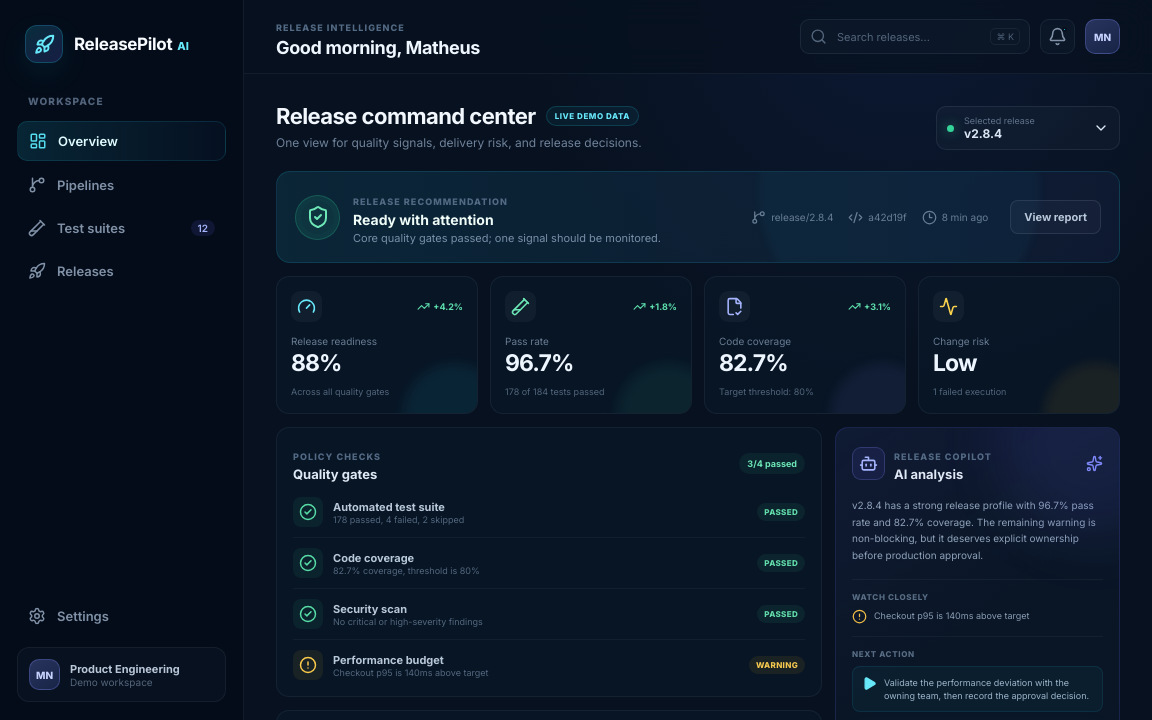
Test: ReleasePilot dashboard › opens and closes the release report
This screenshot has width=1152, height=720.
Click the button "View report": x=1056, y=217 [1010,200,1101,234]
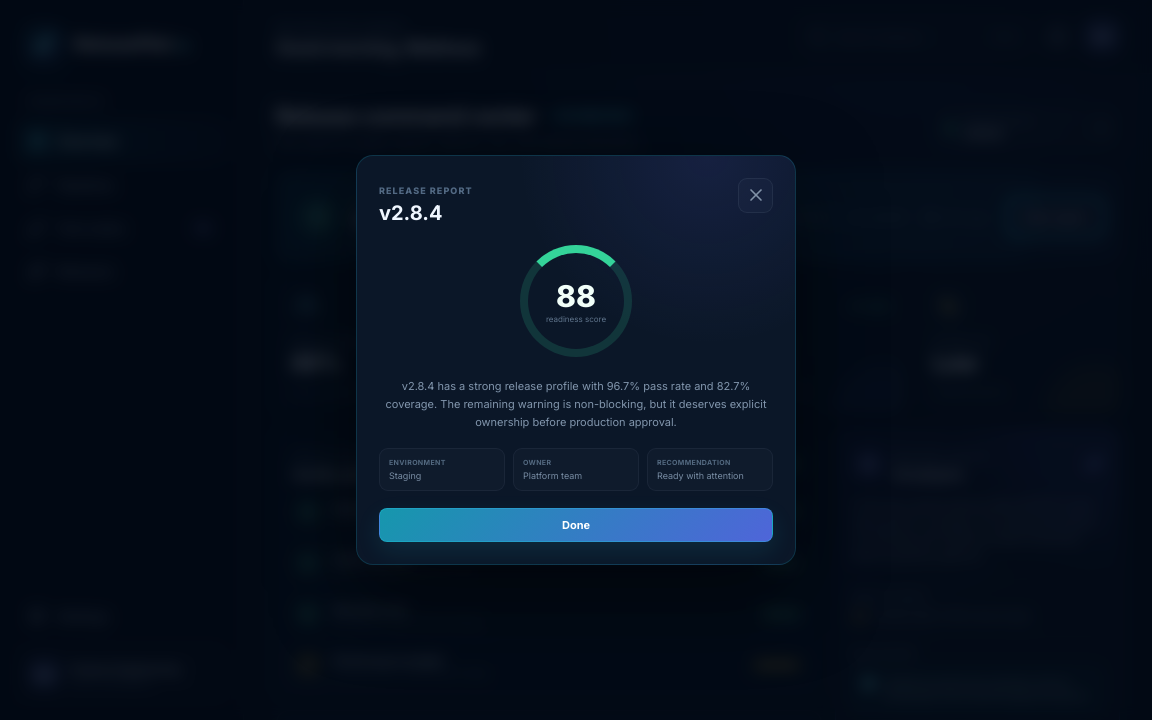
Now the dialog "v2.8.4" is shown, box [356,155,796,565]
Click the button named "Close report": x=756, y=195 [738,178,773,213]
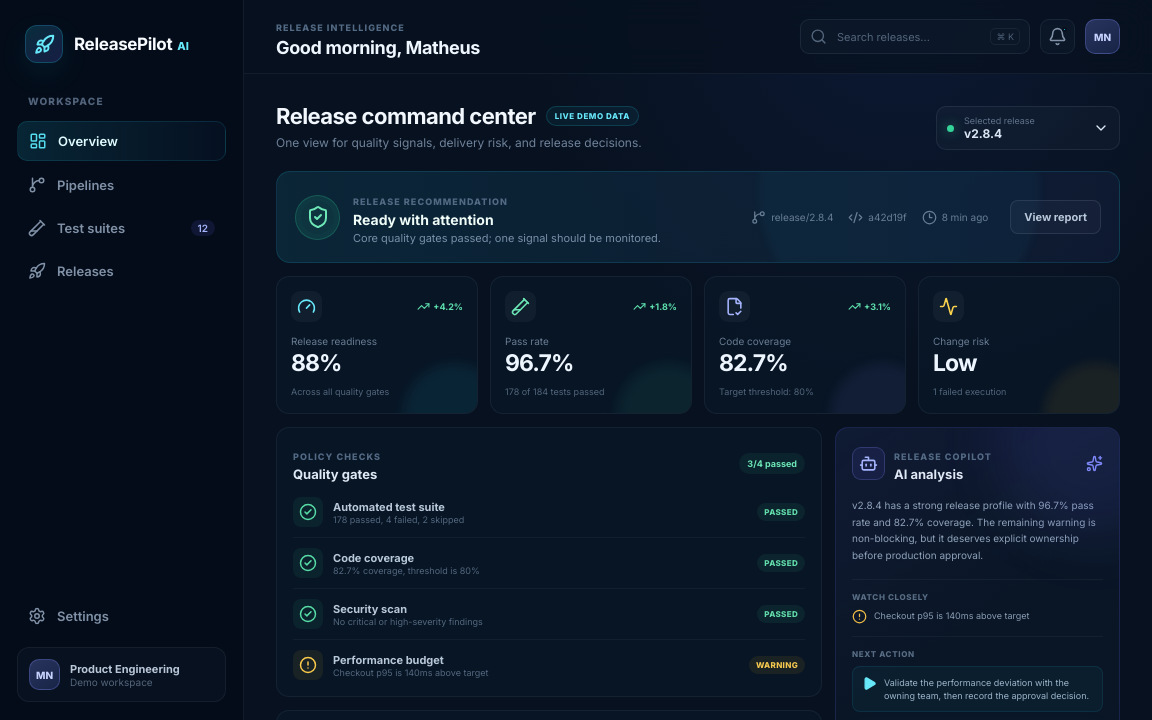
Now the dialog is gone
